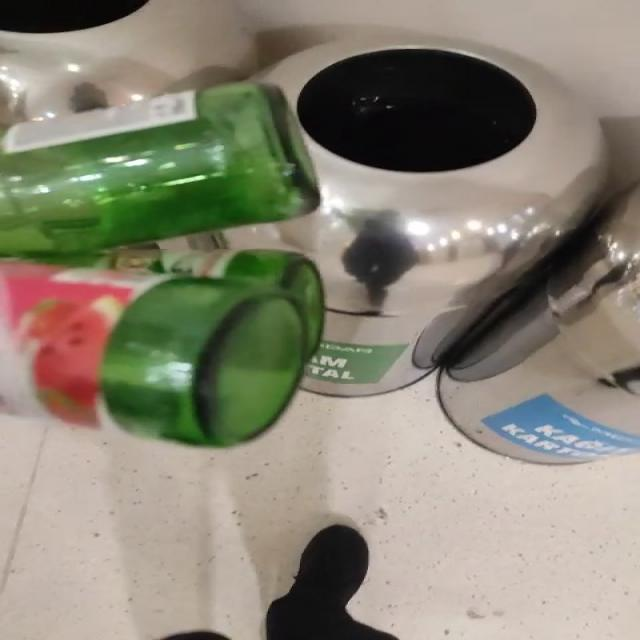bin: (196, 36, 608, 396), (3, 0, 252, 124)
glass: (0, 82, 324, 447)
